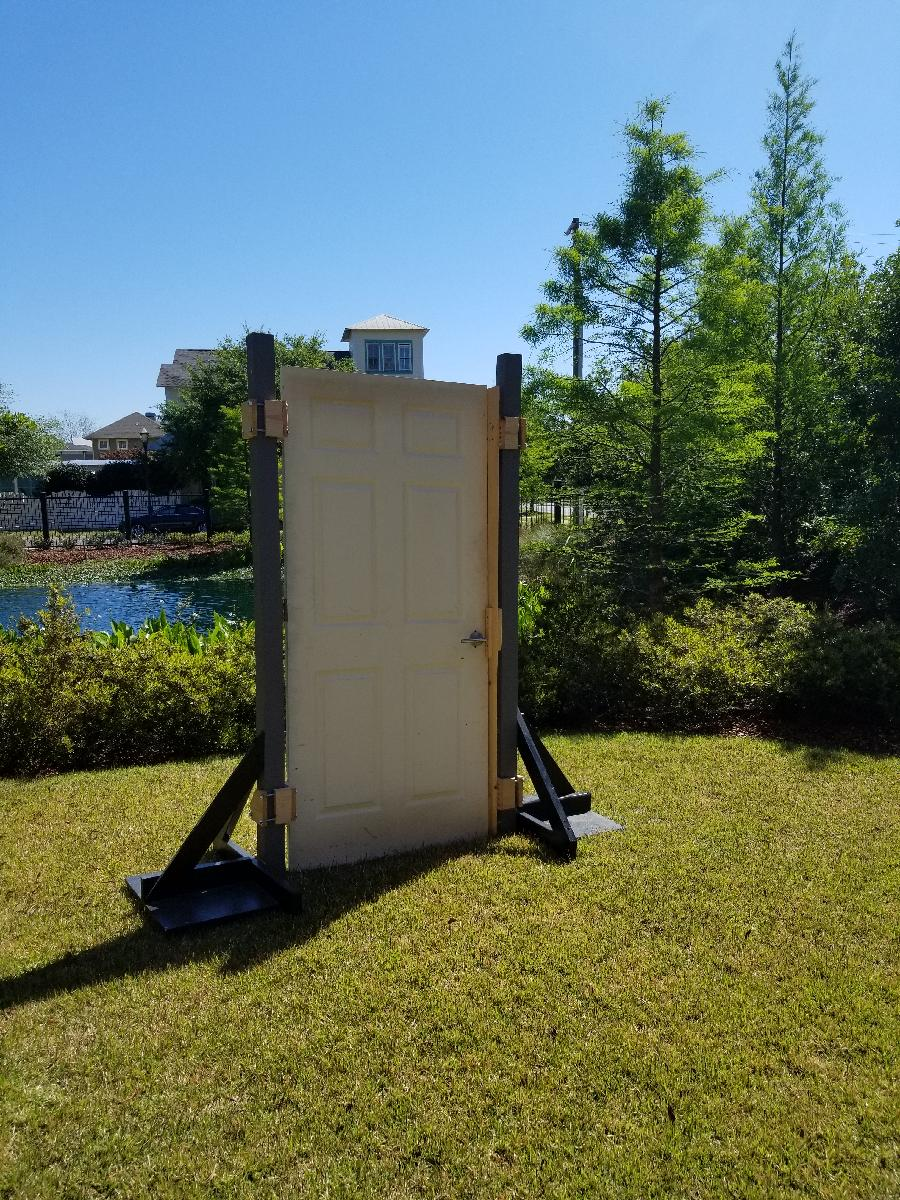door: (276, 362, 495, 876)
doorHandle: (458, 631, 489, 654)
